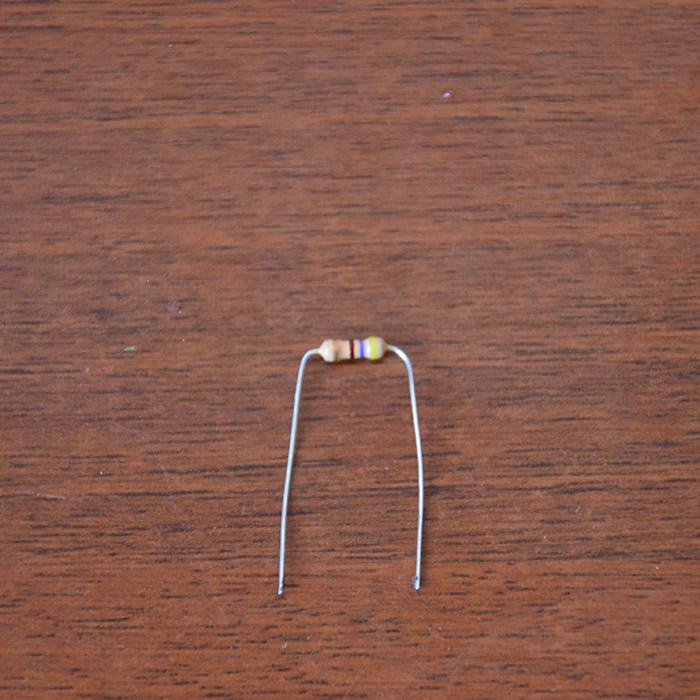resistor: (309, 336, 381, 363)
